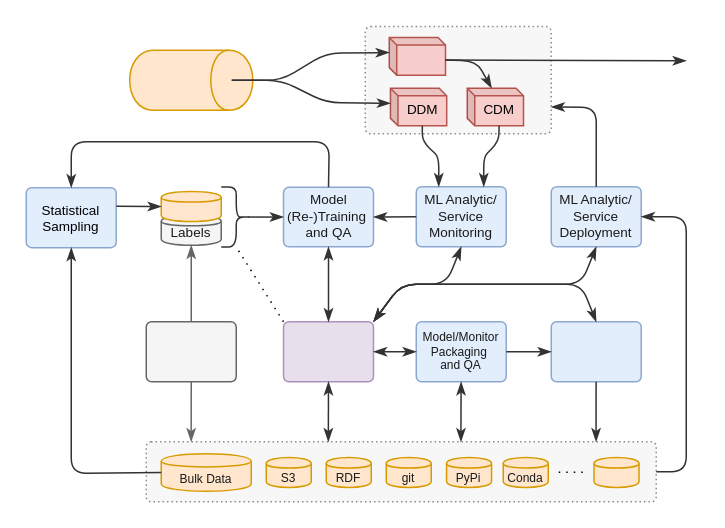
Image size: 725x528. Some labels were removed from this diagram. The shapes that lost their labels are listed below. From the top down, each one's centre as x and y in pixels, then its label:
the point at 417,55: MLS
the point at 190,79: Live Data
the point at 190,206: Sample
the point at 190,351: Training Set Labelling
the point at 328,351: ML Asset Tracking
the point at 595,351: ML Analytic/ Service Delivery
the point at 615,472: Docker
